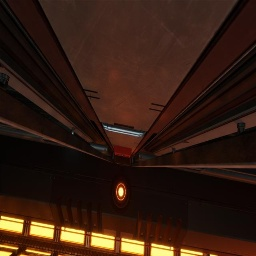FireAlarm ,: (114, 145, 132, 158)
